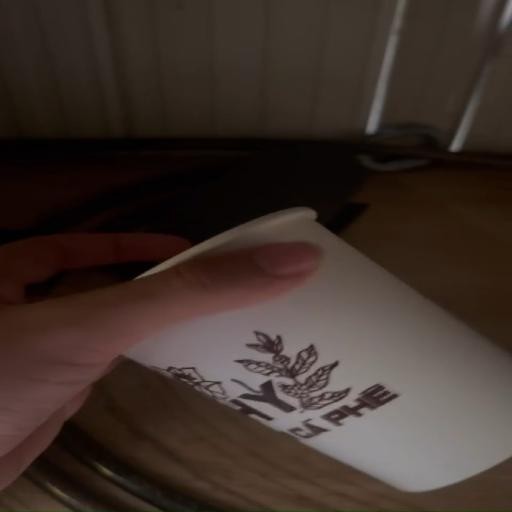Ly_giay: (125, 208, 511, 491)
